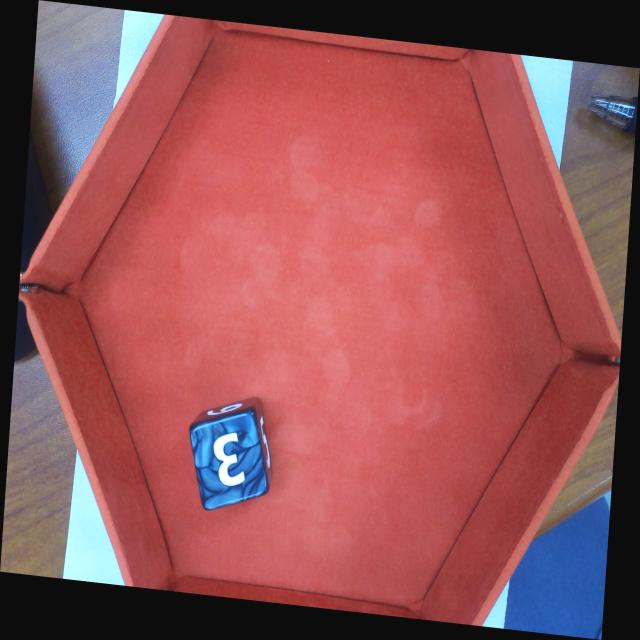dice: (188, 409, 269, 514)
